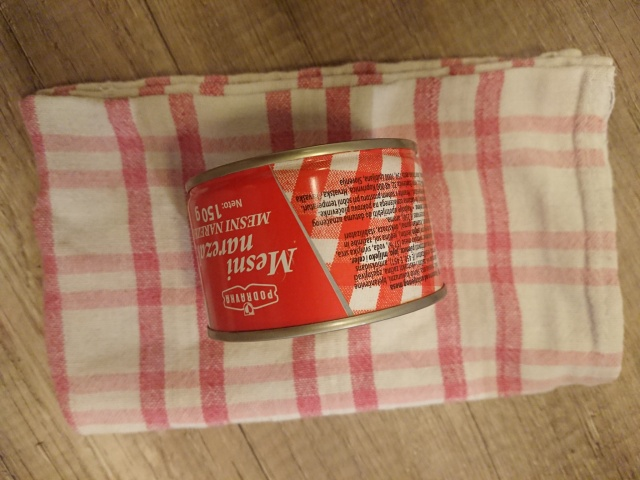Podravka Luncheon Meat 150g: (183, 135, 451, 345)
